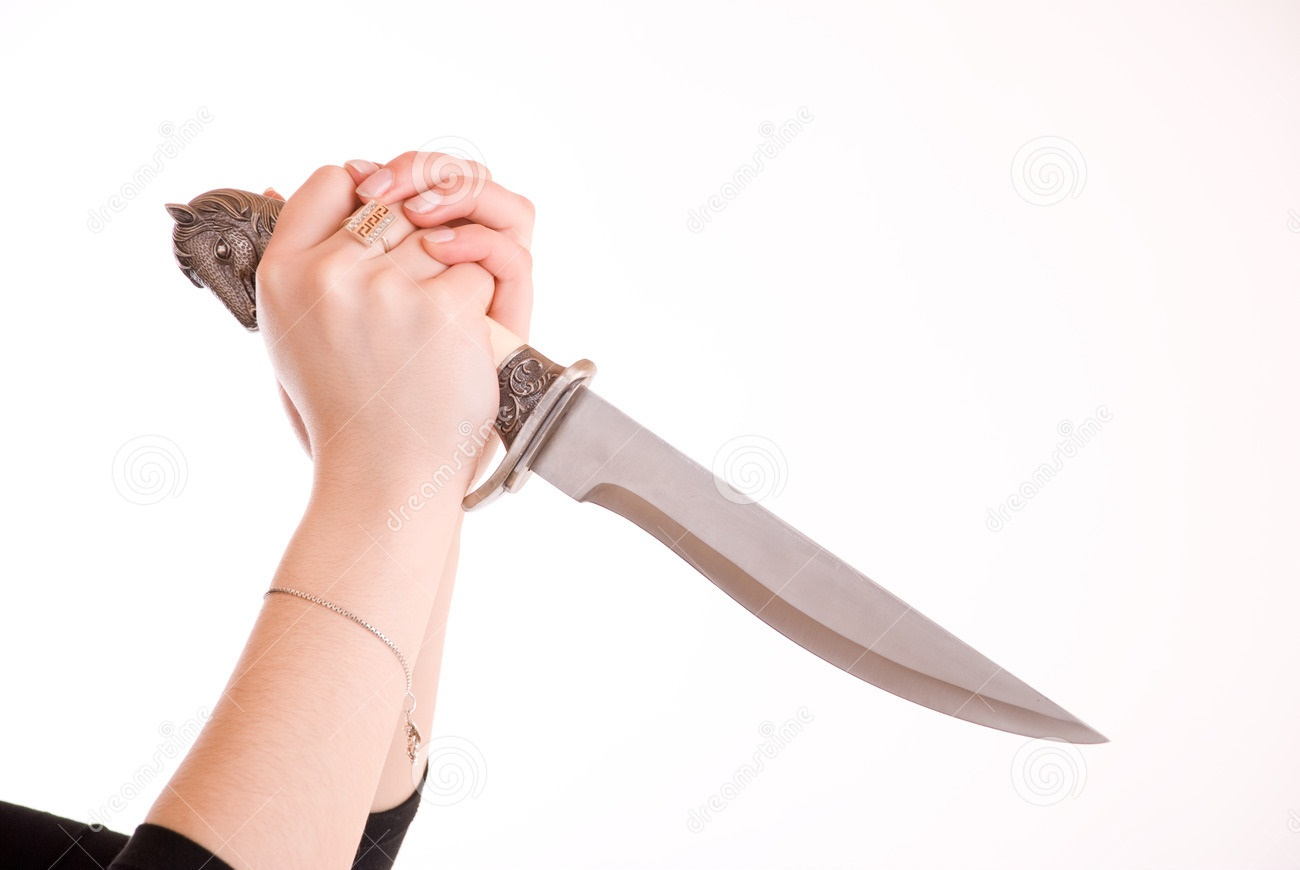knife: (313, 144, 1137, 756)
